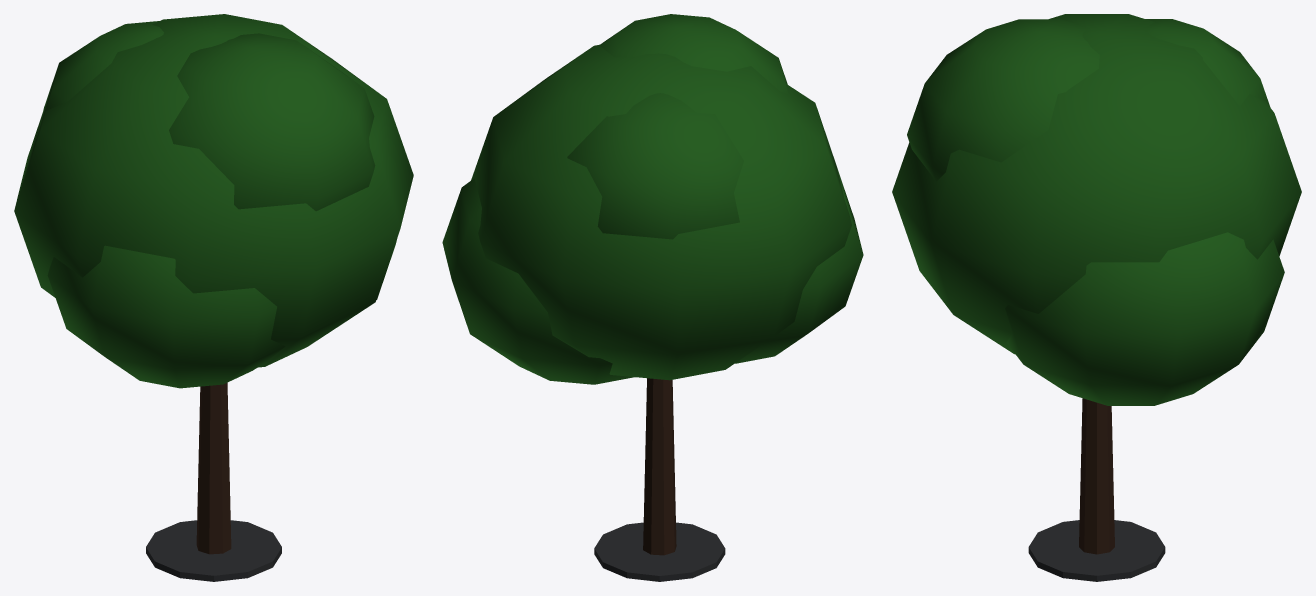
Rendered from PROP_REAL_Tree_A.glb.
3 views of the same model, side by side, from view 1: azimuth 30°, elevation 25°; view 2: azimuth 150°, elevation 25°; view 3: azimuth 270°, elevation 25° (orthographic). The views are drawn at different scales.
Visible parts, largest first — view 1: PROP_REAL_Tree_A; view 2: PROP_REAL_Tree_A; view 3: PROP_REAL_Tree_A.
Part boxes in pixels (left/top/right/bottom): PROP_REAL_Tree_A: left=14, top=14, right=413, bottom=581; PROP_REAL_Tree_A: left=442, top=14, right=863, bottom=581; PROP_REAL_Tree_A: left=892, top=14, right=1301, bottom=581.
Size of the model in its own units: 3.6 by 5.09 by 3.6.
